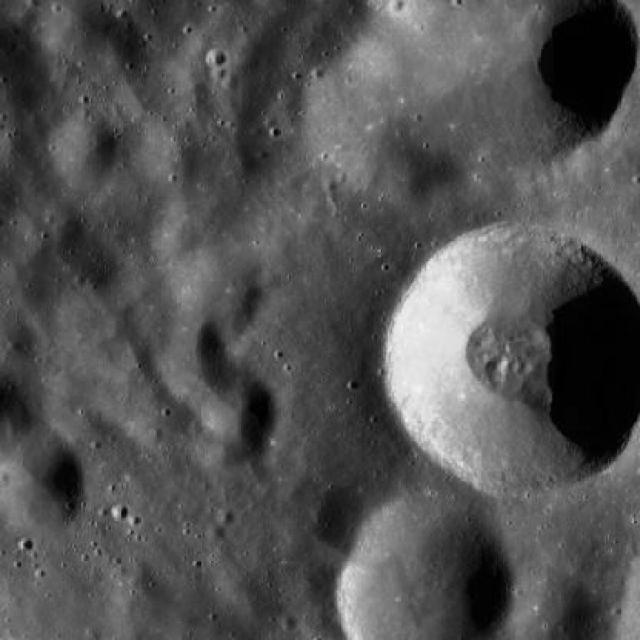crater: (382, 0, 630, 174), (306, 26, 486, 202), (0, 428, 86, 532), (174, 246, 264, 334), (182, 388, 270, 472), (58, 287, 144, 370), (198, 366, 278, 444), (158, 326, 232, 399), (106, 572, 176, 640), (50, 116, 119, 184), (120, 381, 189, 448), (137, 119, 205, 184), (36, 0, 112, 58), (0, 246, 58, 305), (102, 30, 150, 76), (0, 320, 40, 368), (154, 217, 198, 260), (120, 73, 162, 115), (179, 86, 212, 120), (0, 126, 31, 160), (228, 44, 260, 76), (572, 143, 603, 174), (56, 212, 86, 243), (18, 210, 44, 236), (176, 73, 198, 95), (298, 220, 320, 242), (260, 269, 282, 289), (206, 525, 226, 544), (203, 46, 223, 65), (110, 502, 130, 520), (218, 508, 236, 526), (209, 62, 226, 78), (388, 0, 404, 14), (84, 627, 101, 640)
